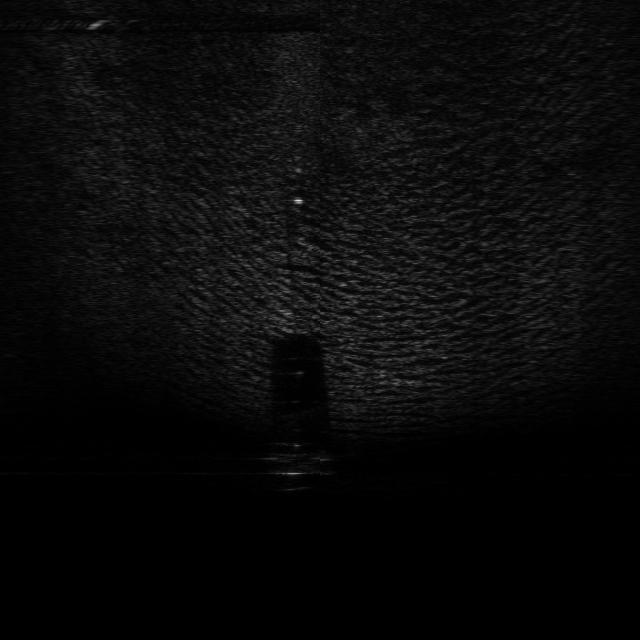cube: (273, 450, 331, 477)
